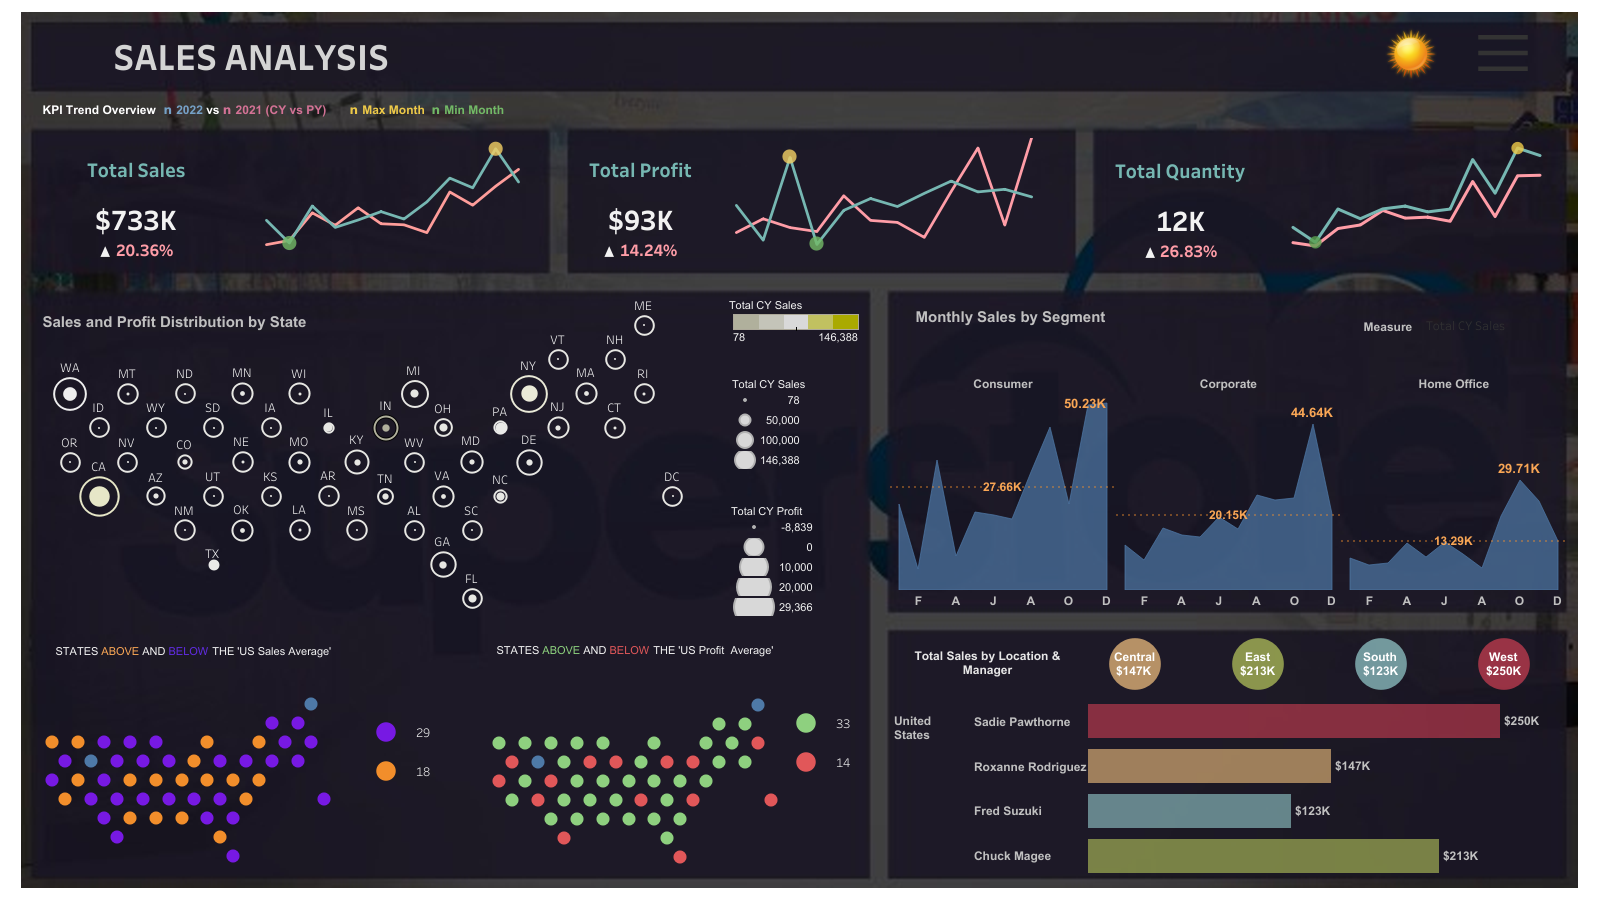

This screenshot's page, from the dashboard's own definition file:
{"tool":"tableau","page":{"name":"Sales Dashboard","canvas":[1600,900],"ordinal":0},"visuals":[{"type":"image","param":"Image/Sales Dashboard Background.jpg","box":[8,8,1584,884]},{"type":"text","box":[111,23.6,321,62.5]},{"type":"dashboard-object","box":[1463,26,81,54]},{"type":"dashboard-object","box":[1365,28,92,52]},{"type":"filter","title":"Sales & Profit by State","param":"[federated.0wn1fz71b0cuob1g45xpf0mys0s8].[none:Category:nk]","box":[1236,30,129,51]},{"type":"filter","title":"Avg Profit by State ","param":"[federated.0wn1fz71b0cuob1g45xpf0mys0s8].[none:Region:nk]","box":[1236,81,129,50]},{"type":"text","box":[40,94,500,31]},{"type":"filter","title":"Monthly Sales by Segment","param":"[federated.0wn1fz71b0cuob1g45xpf0mys0s8].[none:Ship Mode:nk]","box":[1236,131,129,50]},{"type":"worksheet","title":"Sales KPI","mark":"Automatic","box":[35,133,204,133]},{"type":"worksheet","title":"Sales Sparkline","mark":"Automatic","rows":["Calculation_2378956156523720717"],"cols":["Order Date"],"box":[239,133,306,133]},{"type":"worksheet","title":"Qty KPI","mark":"Automatic","box":[1097,133,169,136]},{"type":"worksheet","title":"Quantity Sparkline","mark":"Automatic","rows":["min max profit (copy)_2378956156551483407"],"cols":["Order Date"],"box":[1266,133,300,136]},{"type":"worksheet","title":"Profit KPI","mark":"Automatic","box":[577,134,128,134]},{"type":"worksheet","title":"Profit Sparkline","mark":"Automatic","rows":["min max sales (copy)_2378956156545818638"],"cols":["Order Date"],"box":[705,134,357,134]},{"type":"worksheet","title":"Sales & Profit by State","mark":"Circle","rows":["Row"],"cols":["Column","Column"],"box":[24,291,689,342]},{"type":"legend","title":"Sales & Profit by State","param":"[federated.0wn1fz71b0cuob1g45xpf0mys0s8].[sum:Calculation_2378956156454031360:qk","box":[729,295,134,76]},{"type":"text","box":[40,301,353,42]},{"type":"text","box":[913,302,253,30]},{"type":"parameter","param":"[Parameters].[Parameter 1]","box":[1352,316,195,22]},{"type":"worksheet","title":"Monthly Sales by Segment","mark":"Area","rows":["Calculation_70720610889687041"],"cols":["Segment","Order Date"],"box":[890,374,677,236]},{"type":"legend","title":"Sales & Profit by State","param":"[federated.0wn1fz71b0cuob1g45xpf0mys0s8].[sum:Calculation_2378956156454031360:qk","box":[731,376,136,106]},{"type":"legend","title":"Sales & Profit by State","param":"[federated.0wn1fz71b0cuob1g45xpf0mys0s8].[sum:Total CY Sales (copy)_237895615648","box":[730,503,137,118]},{"type":"text","box":[53,629,343,45]},{"type":"worksheet","title":"Region-wise Sales","mark":"Circle","cols":["Region"],"box":[1074,632,491,64]},{"type":"text","box":[494,633,322,35]},{"type":"text","box":[897,643,181,39]},{"type":"worksheet","title":"Avg Sales by State","mark":"Circle","rows":["Row"],"cols":["Column"],"box":[32,685,312,190]},{"type":"worksheet","title":"Avg Profit by State ","mark":"Circle","rows":["Row"],"cols":["Column"],"box":[479,686,312,190]},{"type":"worksheet","title":"Total Sales by Location & Manager","mark":"Automatic","rows":["Country/Region","Regional Manager"],"cols":["Calculation_2378956156454031360"],"box":[888,699,677,179]},{"type":"worksheet","title":"Avg Profit by by State Count","mark":"Circle","rows":["Sales Avg Color (copy)_769341502765035526"],"box":[758,703,95,78]},{"type":"worksheet","title":"Avg Sales by by State Count","mark":"Circle","rows":["Calculation_769341502758584323"],"box":[338,712,95,78]}]}

Visuals, with their boxes in screenshot pixels (x1, y1, x2, y2), scaled from the page's 1600x900 canvas onto the 1599x899 screenshot:
image: 8, 8, 1591, 891
text: 111, 24, 432, 86
dashboard-object: 1462, 26, 1543, 80
dashboard-object: 1364, 28, 1456, 80
"Sales & Profit by State" filter: 1235, 30, 1364, 81
"Avg Profit by State " filter: 1235, 81, 1364, 131
text: 40, 94, 540, 125
"Monthly Sales by Segment" filter: 1235, 131, 1364, 181
"Sales KPI" worksheet: 35, 133, 239, 266
"Sales Sparkline" worksheet: 239, 133, 545, 266
"Qty KPI" worksheet: 1096, 133, 1265, 269
"Quantity Sparkline" worksheet: 1265, 133, 1565, 269
"Profit KPI" worksheet: 577, 134, 705, 268
"Profit Sparkline" worksheet: 705, 134, 1061, 268
"Sales & Profit by State" worksheet (Circle marks): 24, 291, 713, 632
"Sales & Profit by State" legend: 729, 295, 862, 371
text: 40, 301, 393, 343
text: 912, 302, 1165, 332
parameter: 1351, 316, 1546, 338
"Monthly Sales by Segment" worksheet (Area marks): 889, 374, 1566, 609
"Sales & Profit by State" legend: 731, 376, 866, 481
"Sales & Profit by State" legend: 730, 502, 866, 620
text: 53, 628, 396, 673
"Region-wise Sales" worksheet (Circle marks): 1073, 631, 1564, 695
text: 494, 632, 815, 667
text: 896, 642, 1077, 681
"Avg Sales by State" worksheet (Circle marks): 32, 684, 344, 874
"Avg Profit by State " worksheet (Circle marks): 479, 685, 791, 875
"Total Sales by Location & Manager" worksheet: 887, 698, 1564, 877
"Avg Profit by by State Count" worksheet (Circle marks): 758, 702, 852, 780
"Avg Sales by by State Count" worksheet (Circle marks): 338, 711, 433, 789
